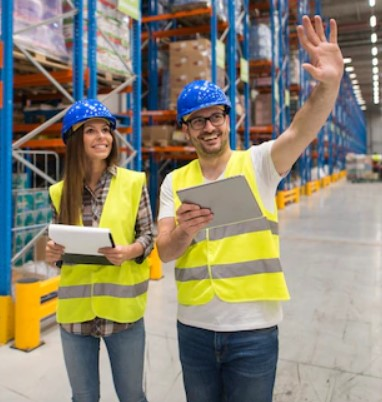worker: (172, 80, 290, 300), (54, 99, 147, 322)
